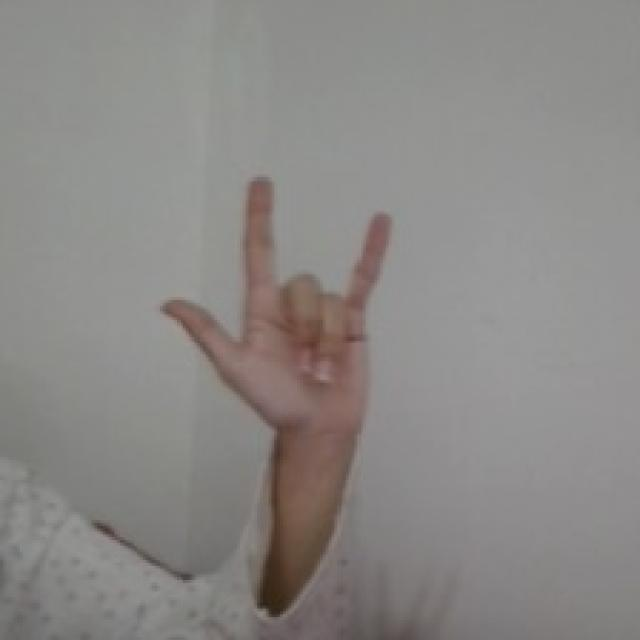love: (155, 172, 401, 443)
